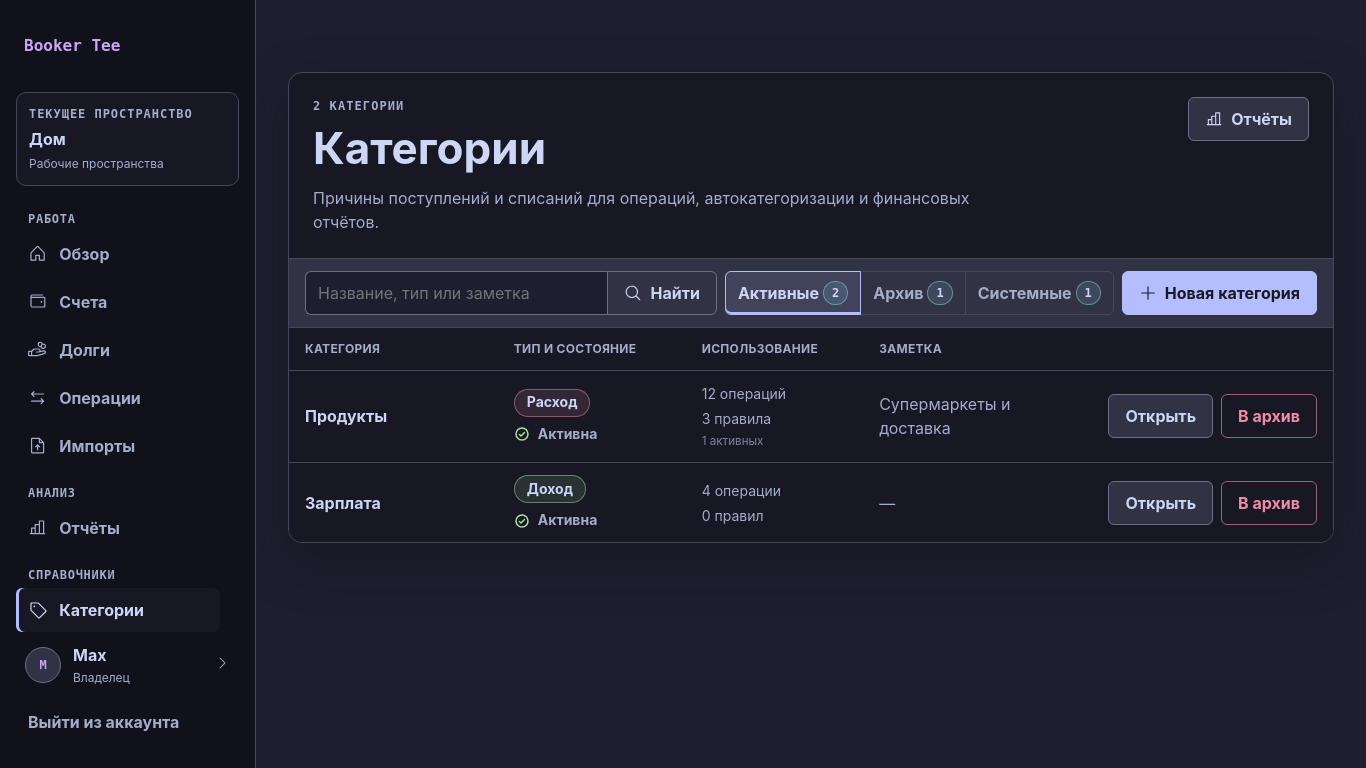
it: CategoriesPage › searches by localized kind and offers one reset path
Type "перевод" into the search field named "Поиск по названию, типу или заметке" at (456, 293), box x1=305 y1=271 x2=608 y2=315
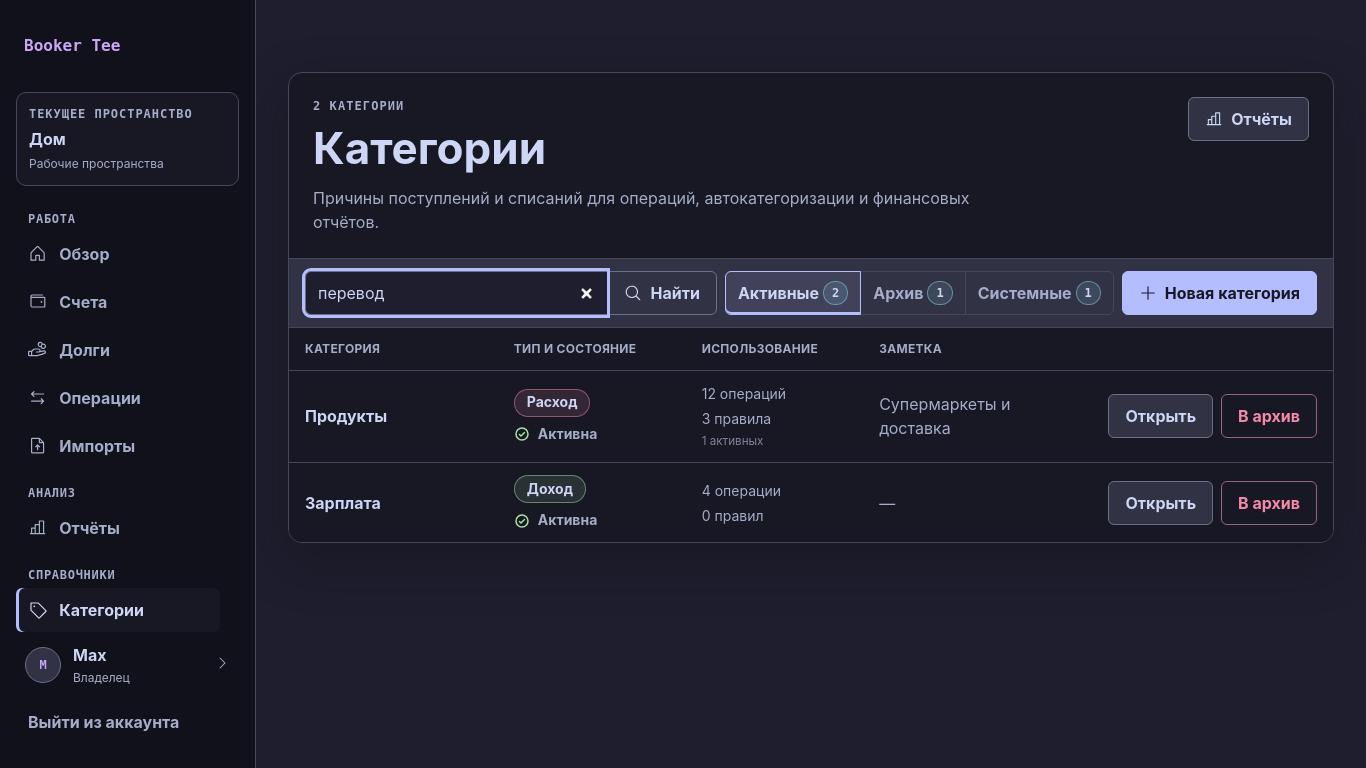
Click the button "Найти" at (662, 293), box x1=608 y1=271 x2=717 y2=315
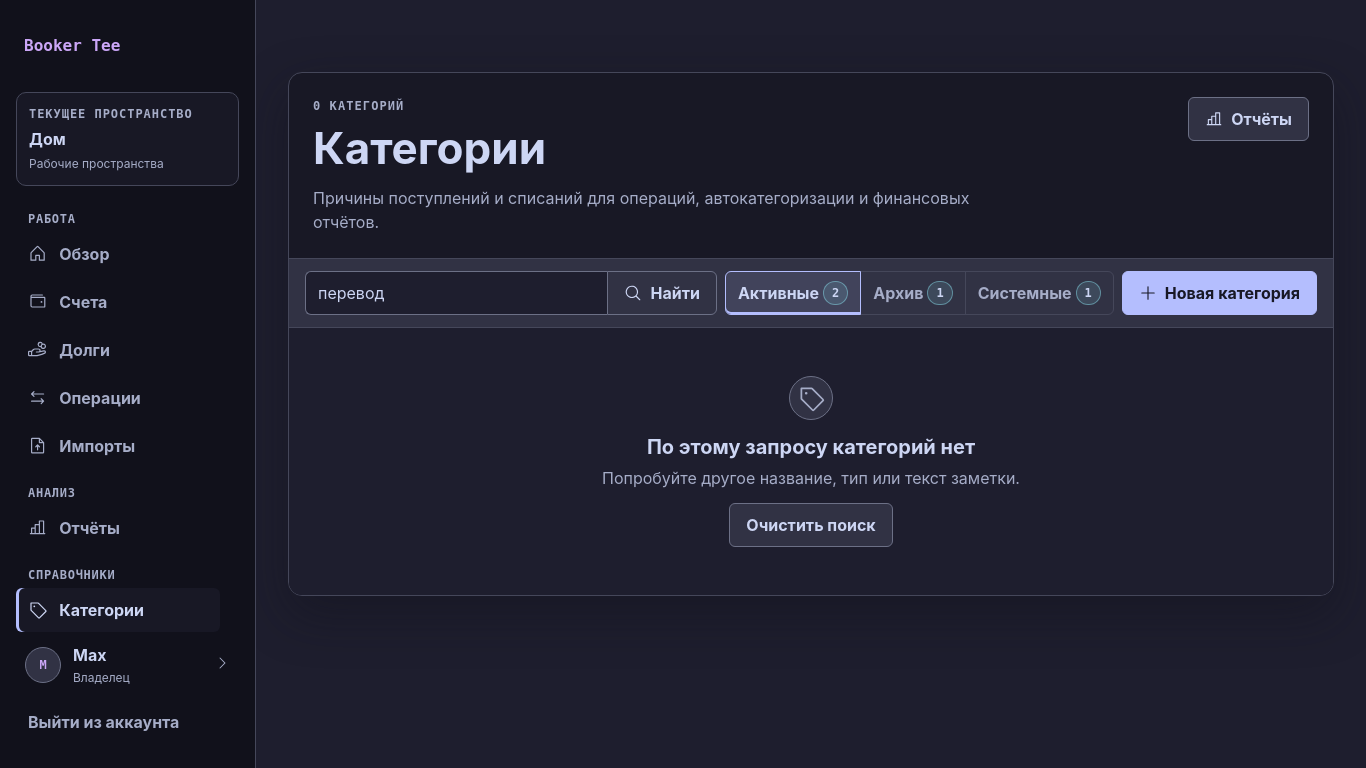
Now the heading "По этому запросу категорий нет" is shown, box x1=647 y1=435 x2=975 y2=459
Now the link "Очистить поиск" is shown, box x1=729 y1=503 x2=893 y2=547
